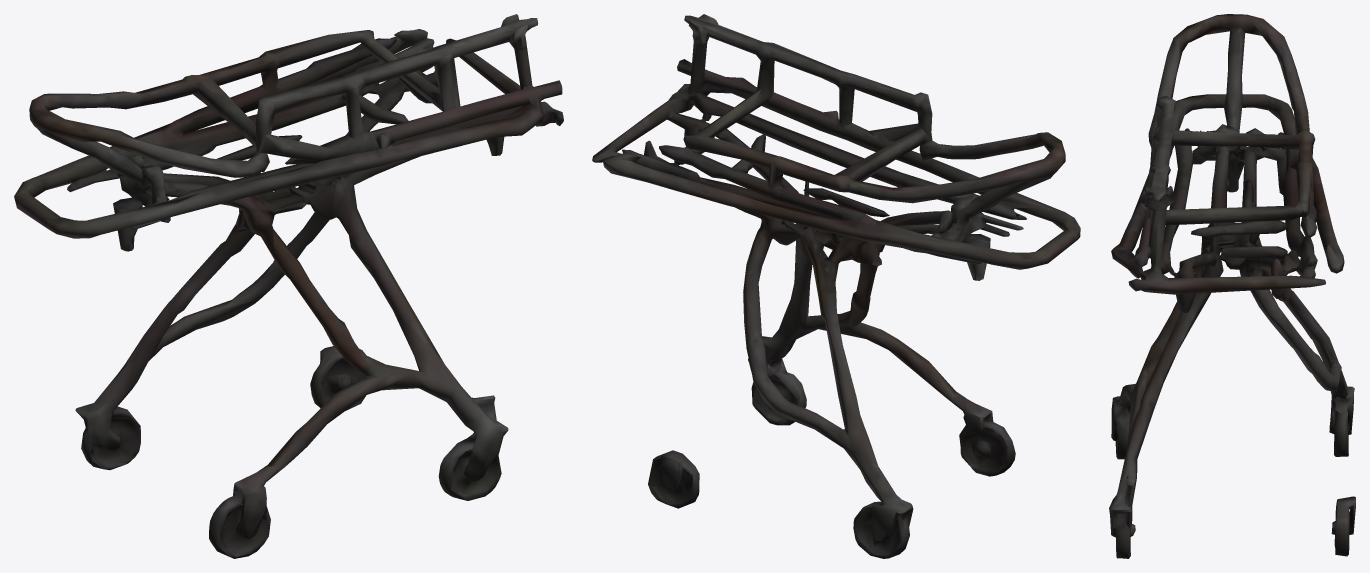
File: ancient-iron-gurney-v001.glb
3 renders of one model, left to right at view 1: azimuth 30°, elevation 25°; view 2: azimuth 150°, elevation 25°; view 3: azimuth 270°, elevation 25°, orthographic. The views are drawn at different scales.
Visible parts, largest first — view 1: ancient-iron-gurney; view 2: ancient-iron-gurney; view 3: ancient-iron-gurney.
Part boxes in pixels (x1=…): ancient-iron-gurney: x1=14, y1=14, x2=563, y2=558; ancient-iron-gurney: x1=592, y1=14, x2=1080, y2=558; ancient-iron-gurney: x1=1109, y1=14, x2=1355, y2=558.
Size of the model in its own units: 1 by 0.8963 by 0.5043.
1 material, 1 textured.
